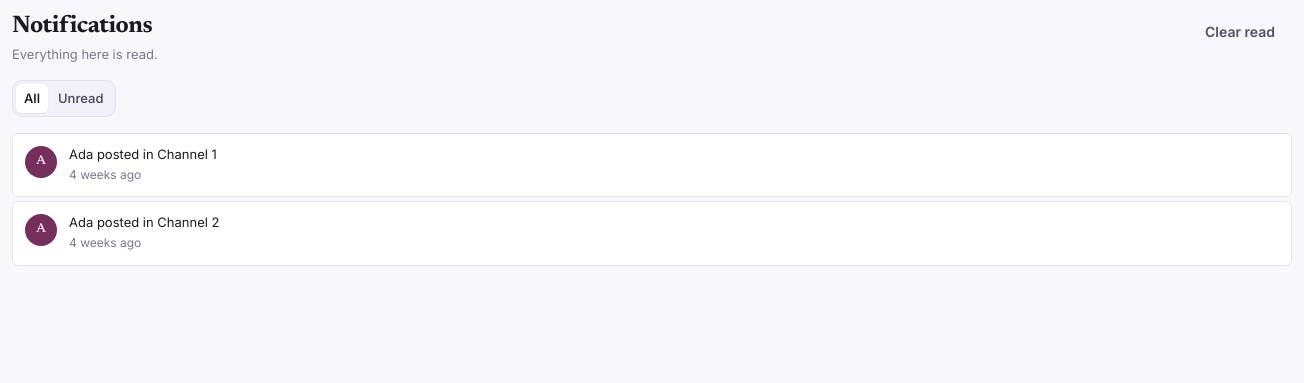
Test: the list › asks for unread only under the filter, and says so when there are none
Expected: the number of buttons "A Ada posted in Channel 1 4 weeks ago" is 2, [12,133,1292,197]; [12,201,1292,266]
Expected: the text "Everything here is read." is shown, [12,44,158,64]
Click the radio button labelled "Unread" at (81, 99), box [50,84,112,113]
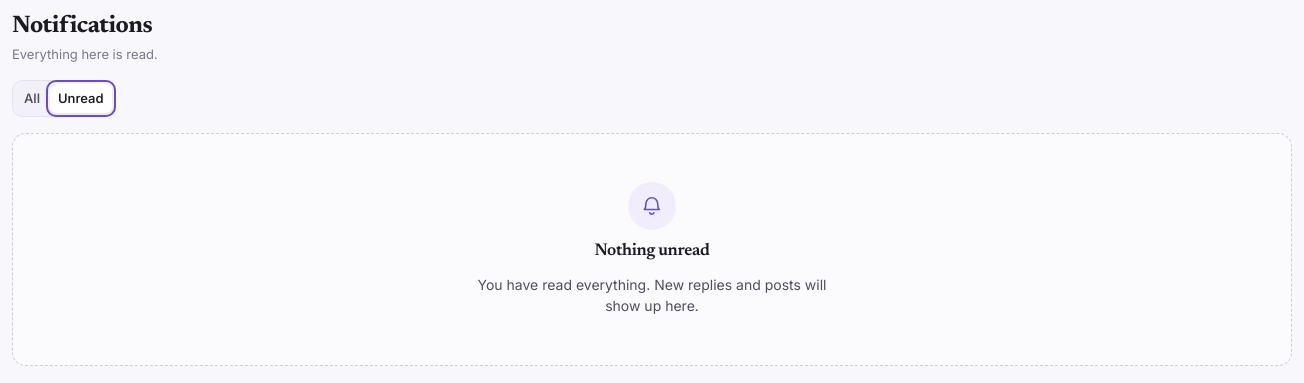
Expected: the heading "Nothing unread" is shown, [594,242,710,262]
Expected: no buttons "Ada posted in Channel" are shown
